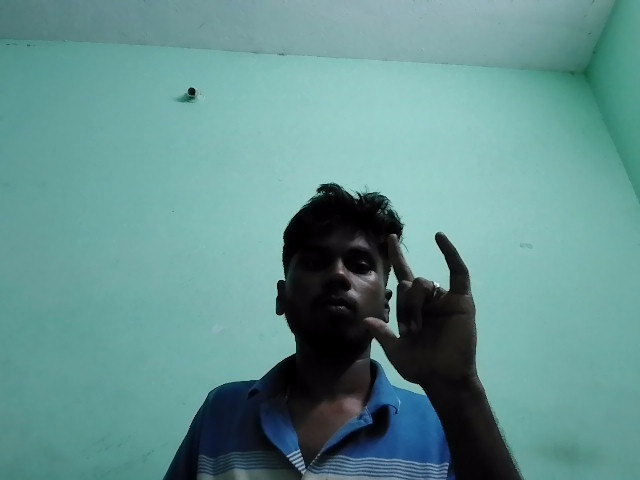I Love You: (350, 222, 525, 400)
